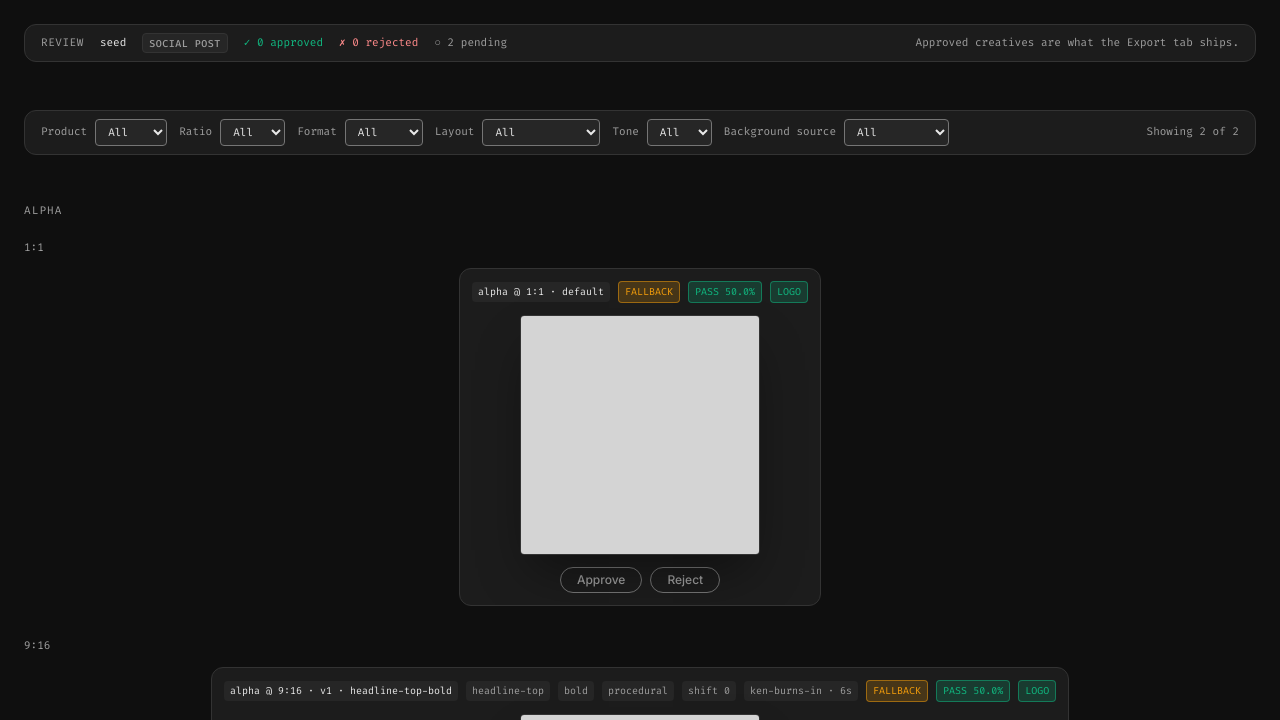
Scenario: GridPage — motion cells › the format filter separates motion from static cells
The image size is (1280, 720).
Select "motion" in the dropdown labelled "Format". click: x=384, y=132
box: [345, 119, 423, 146]
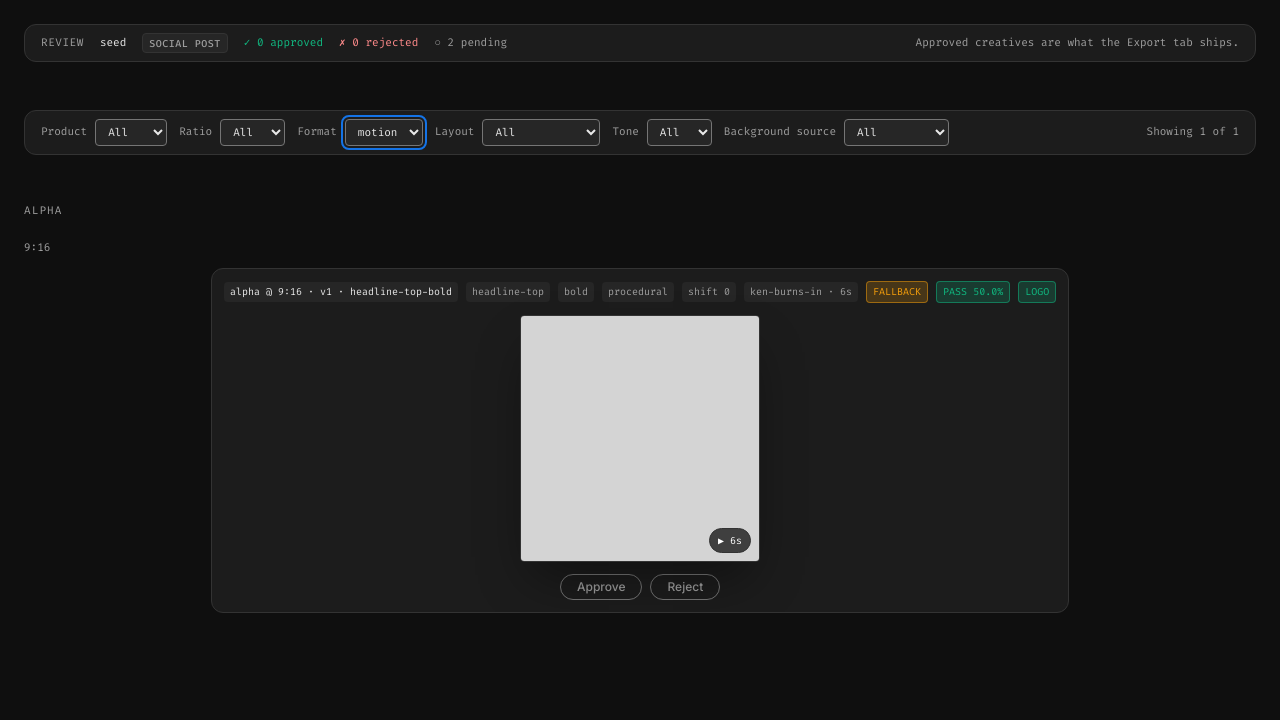
Expected: the text "alpha @ 1:1 · default" is gone
Select "static" in the dropdown labelled "Format". click: x=384, y=132
box: [345, 119, 423, 146]
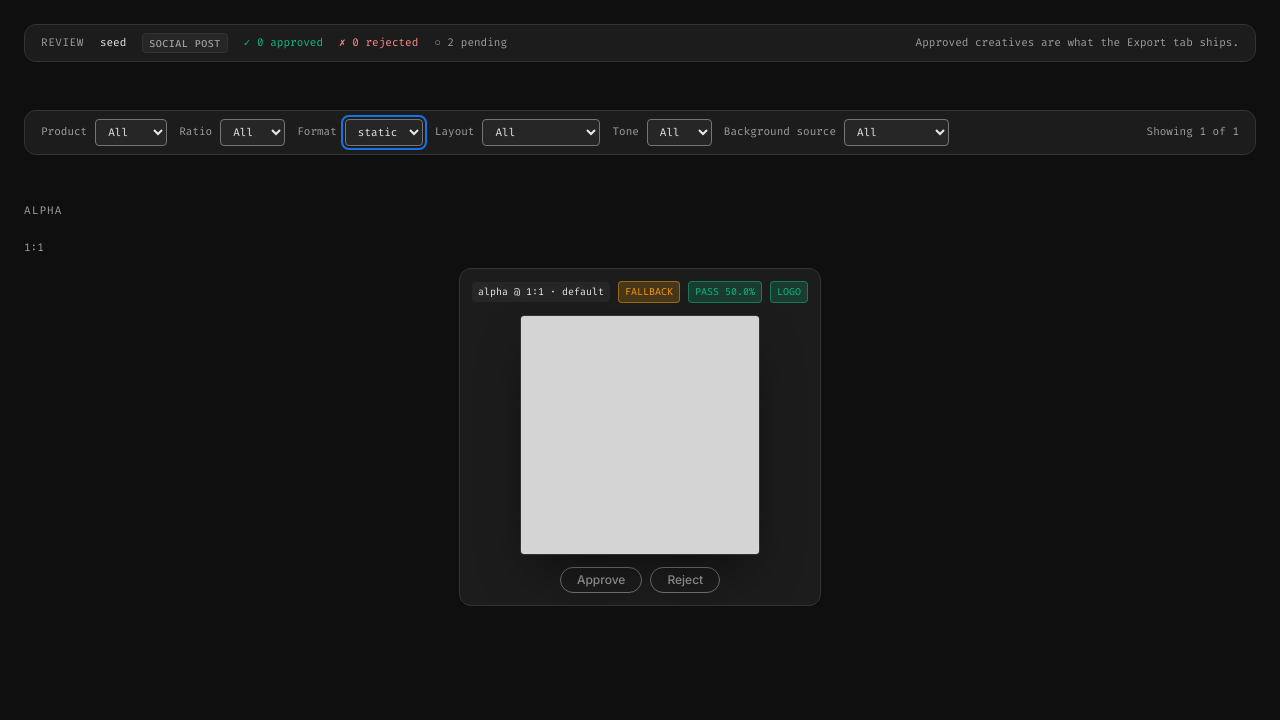
Expected: the text labelled "alpha @ 9:16 · v1 · headline-top-bold" is gone
